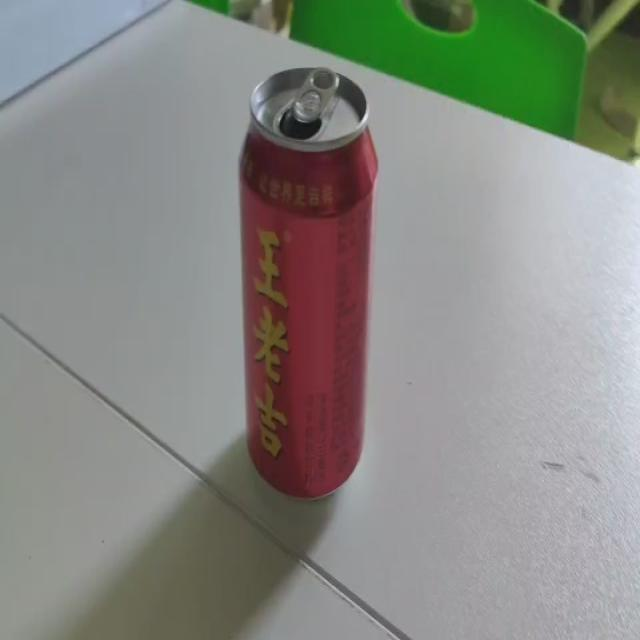can: (240, 68, 377, 492)
